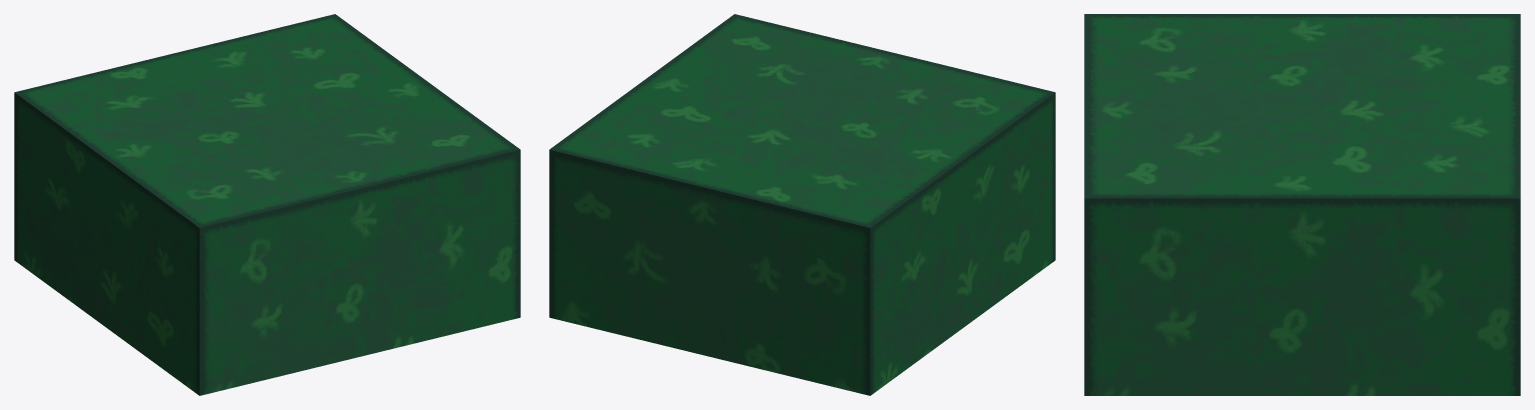
Rendered from 1_grass.obj.
The picture shows the model from 3 angles, left to right: view 1: azimuth 30°, elevation 25°; view 2: azimuth 150°, elevation 25°; view 3: azimuth 270°, elevation 25°; orthographic projection. The views are drawn at different scales.
Visible parts, largest first — view 1: 1_grass; view 2: 1_grass; view 3: 1_grass.
Part boxes in pixels (x1,y1,x2,y2): 1_grass: [14, 14, 520, 395]; 1_grass: [549, 14, 1055, 395]; 1_grass: [1084, 14, 1520, 395].
Bounding box in the file's own units: 1 × 0.5 × 1.
Materials: 1 (1 with a texture image).
